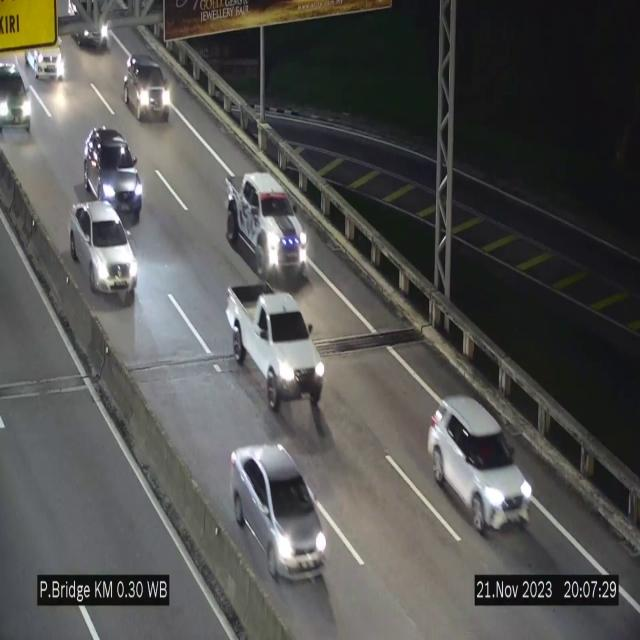Car: (228, 440, 332, 590), (428, 396, 536, 534), (226, 286, 324, 402), (70, 202, 138, 296), (84, 126, 142, 222), (124, 55, 172, 123), (0, 64, 37, 135), (23, 35, 65, 89)
Truck: (226, 168, 306, 283)
